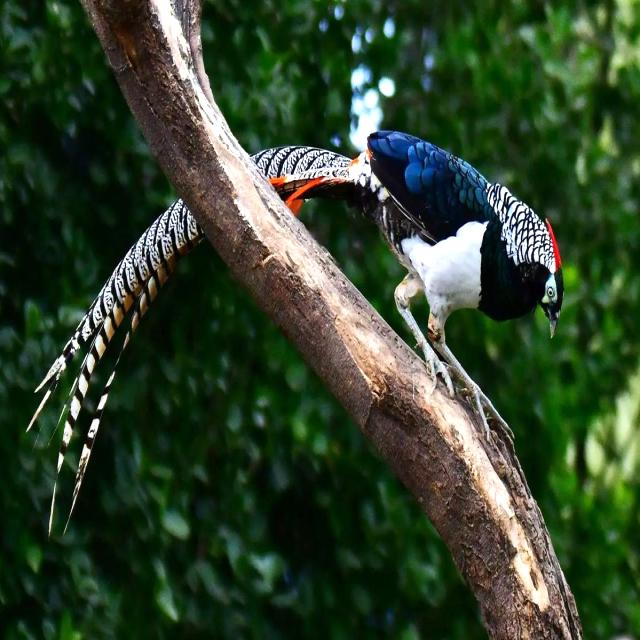Chrysolophus amherstiae: (35, 199, 203, 471), (250, 146, 360, 215)
